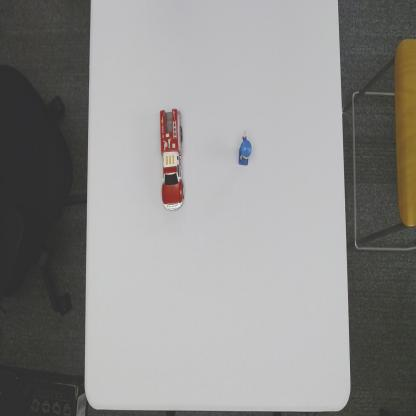Firetruck: (158, 107, 186, 213)
